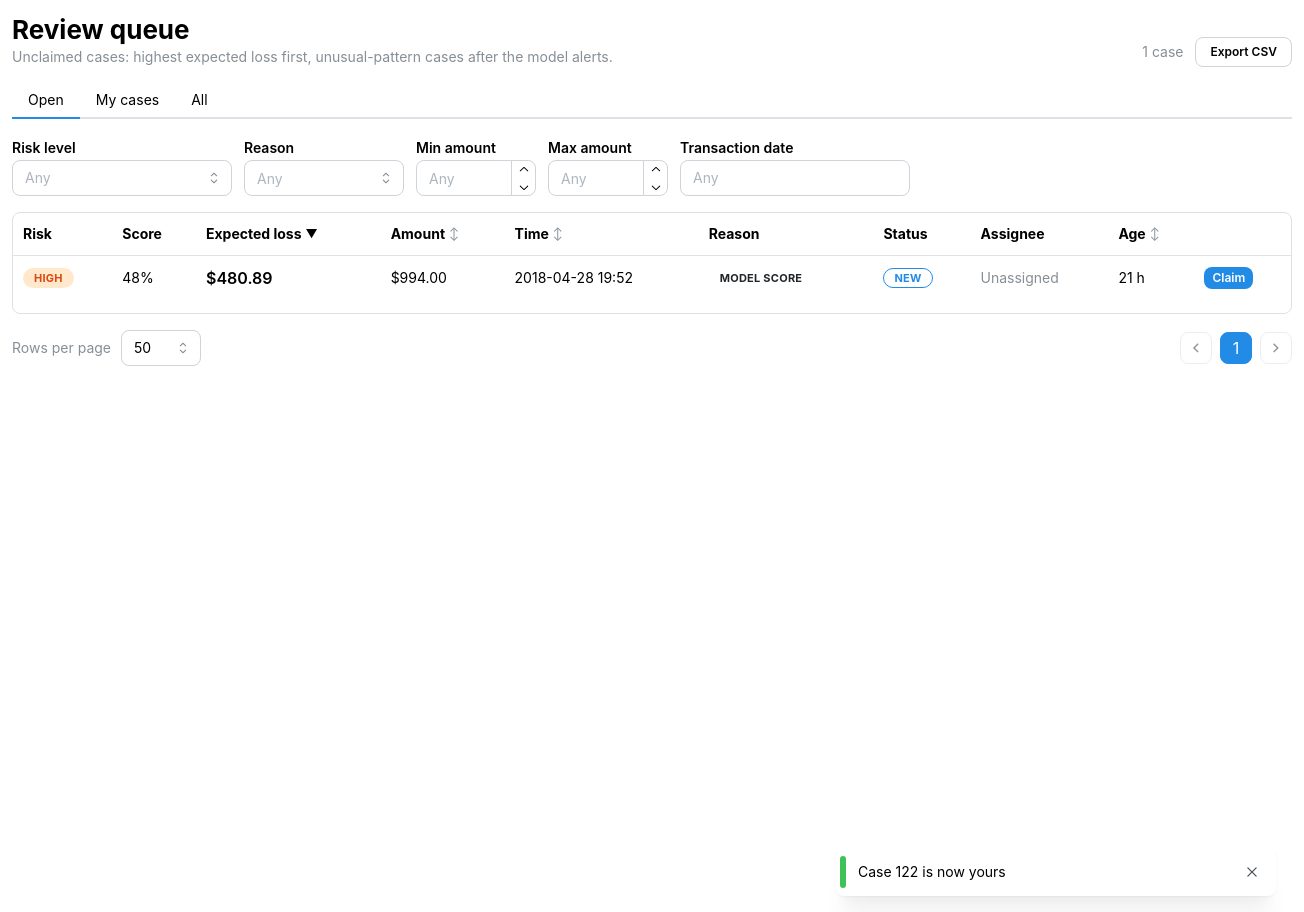
Scenario: claim and assign › shows the server message when someone else claimed it first
Click the button "Claim" at (1229, 278), box top-left (1204, 267), bottom-right (1253, 289)
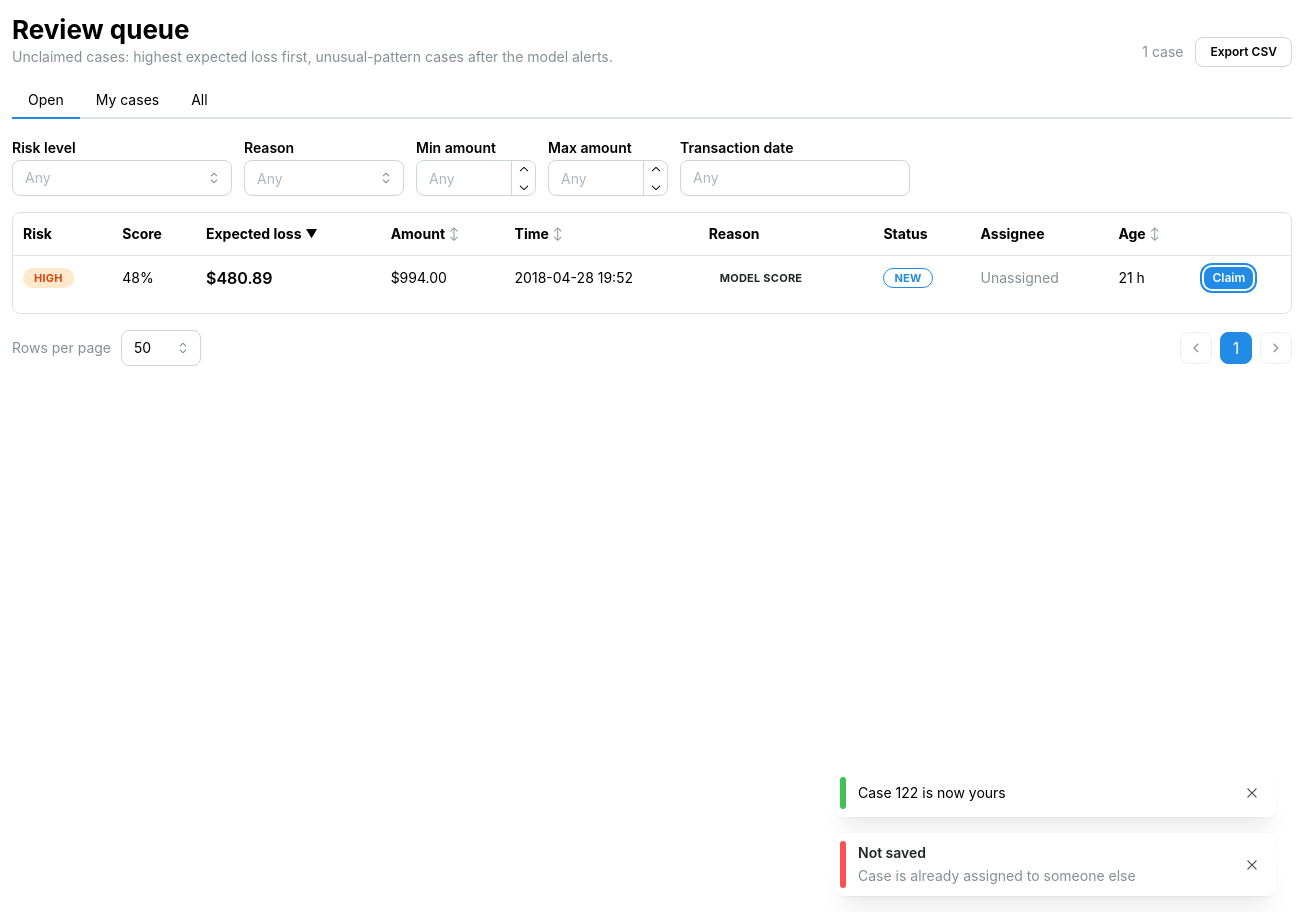
Expected: the text "Case is already assigned to someone else" is shown, top-left (858, 867), bottom-right (1136, 884)
